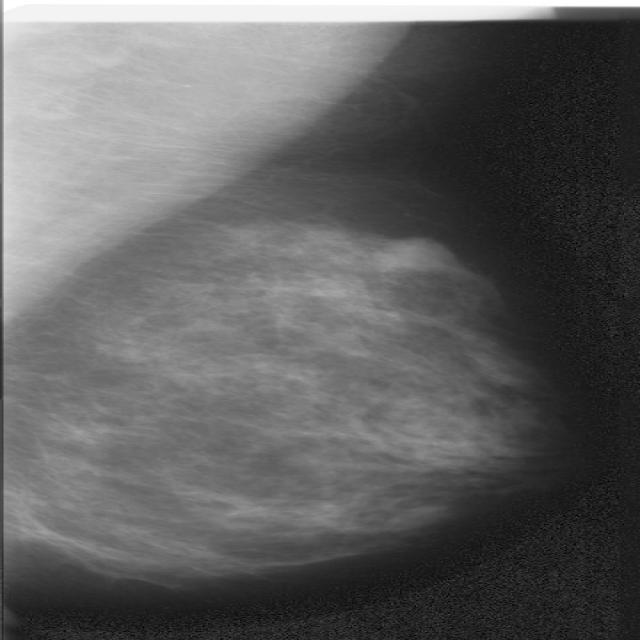tumour: (364, 237, 460, 274)
